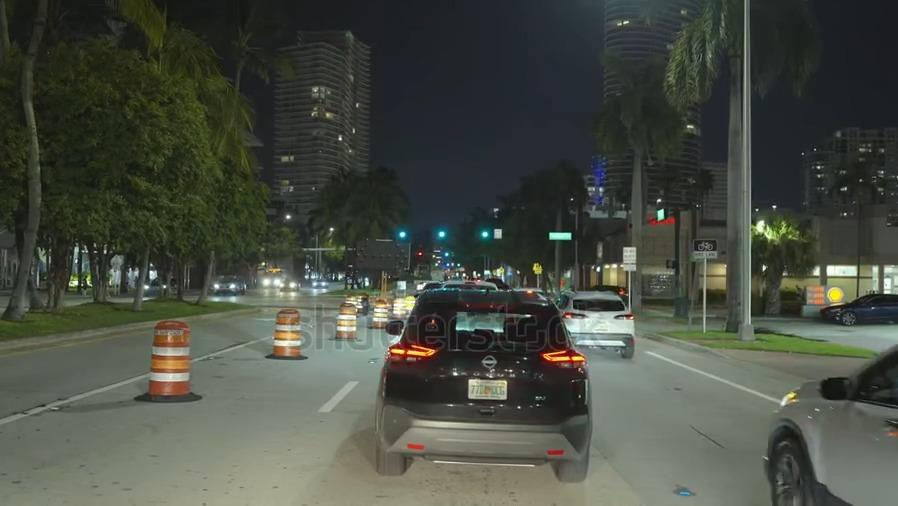bus: (263, 265, 287, 287)
car: (384, 291, 588, 481), (773, 346, 898, 506), (553, 290, 636, 354), (825, 289, 898, 329), (141, 271, 177, 296), (211, 271, 243, 295), (595, 283, 633, 303), (309, 277, 329, 290), (281, 278, 299, 290)
cone: (147, 317, 191, 399), (272, 305, 301, 360), (333, 299, 355, 341), (372, 298, 387, 331), (389, 293, 402, 318), (401, 291, 417, 311)
wheel: (766, 438, 808, 506)
